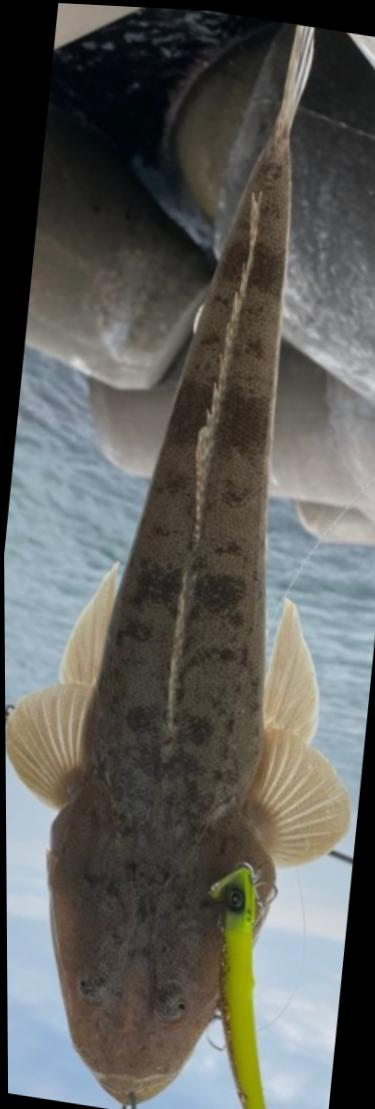fish: (4, 21, 349, 1103)
